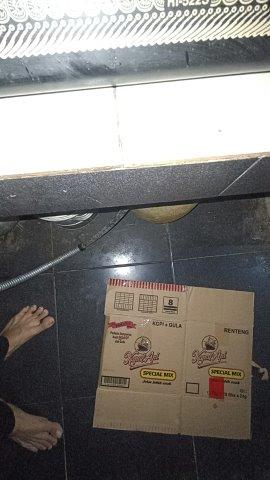kardus: (95, 280, 253, 437)
